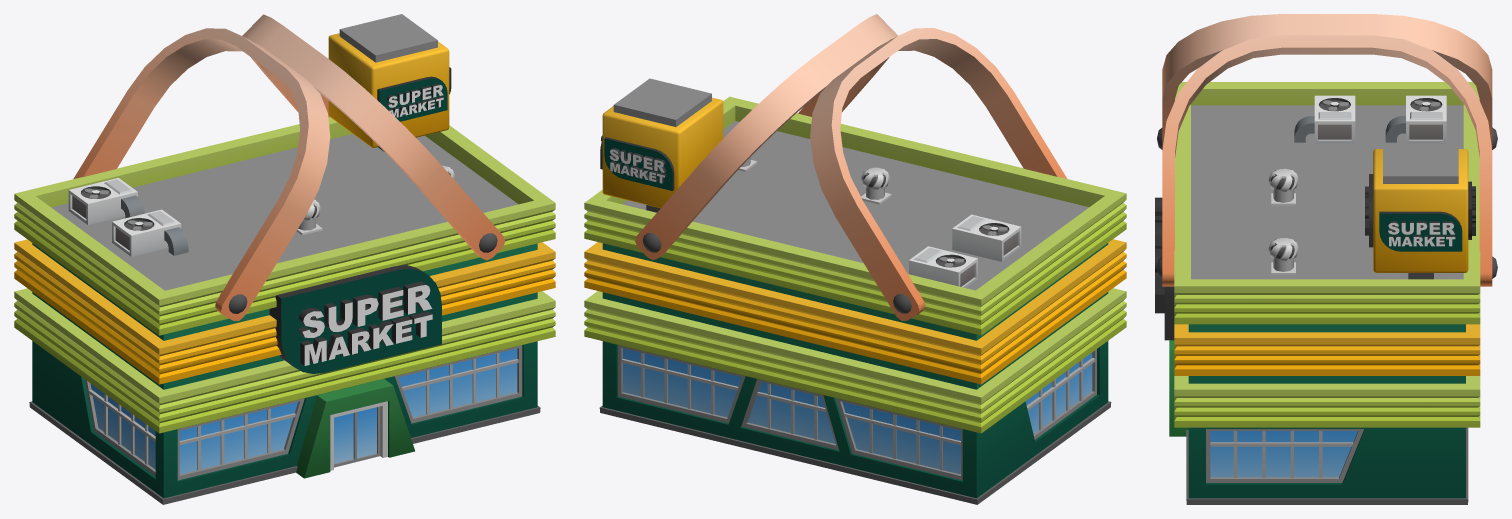
Rendered from supermarket_002.glb.
3 views of the same model, side by side, from view 1: azimuth 30°, elevation 25°; view 2: azimuth 150°, elevation 25°; view 3: azimuth 270°, elevation 25° (orthographic). The views are drawn at different scales.
Parts seen in each view (by area): view 1: supermarket_002; view 2: supermarket_002; view 3: supermarket_002.
Boxes of the visible parts, x1,y1,x2,y2 form: supermarket_002: [14, 14, 555, 504]; supermarket_002: [584, 14, 1126, 504]; supermarket_002: [1155, 14, 1497, 504].
Size of the model in its own units: 17.46 by 15.28 by 12.39.
Materials: 2 (2 with a texture image).
